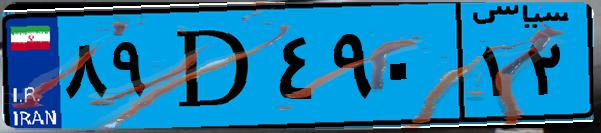0: (385, 28, 445, 110)
1: (475, 38, 525, 113)
2: (525, 38, 570, 115)
4: (270, 28, 330, 110)
8: (57, 26, 110, 100)
9: (330, 28, 385, 110), (110, 28, 158, 98)
D: (158, 12, 270, 120)
